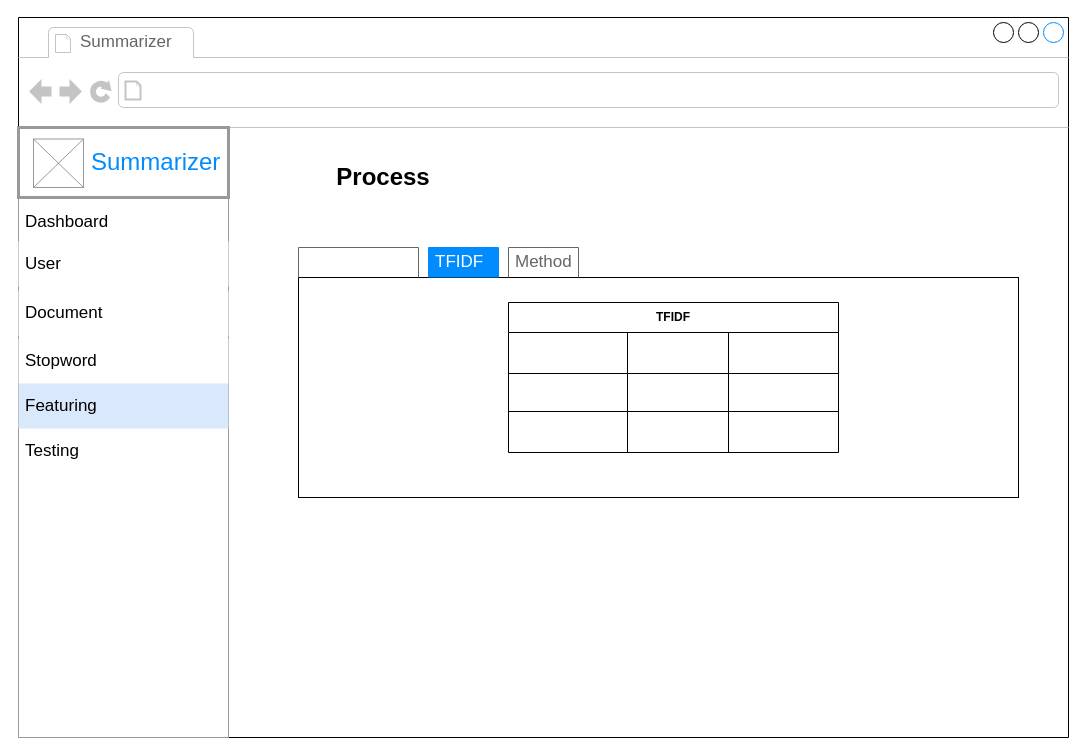
Some shapes in this 1086 by 755 pixel diagram are drawn without their labels. Here are the shapes that lost their labels. From the top down, the centre of each, then its label:
the point at 273,90: https://
the point at 358,262: Preprocessing
